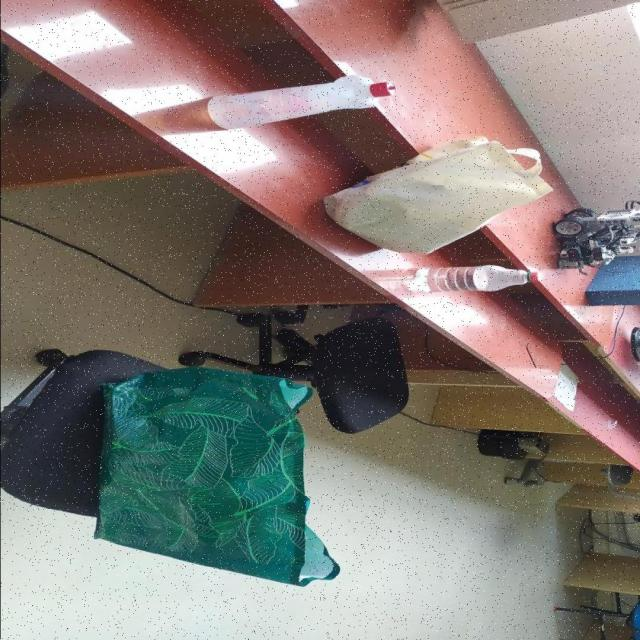Bag: (97, 362, 337, 592), (317, 136, 556, 255)
